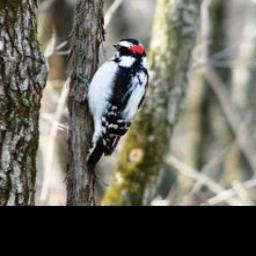Woodpecker: (76, 38, 153, 177)
